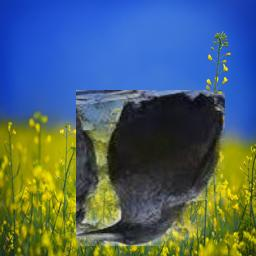Crow: (76, 90, 225, 246)
